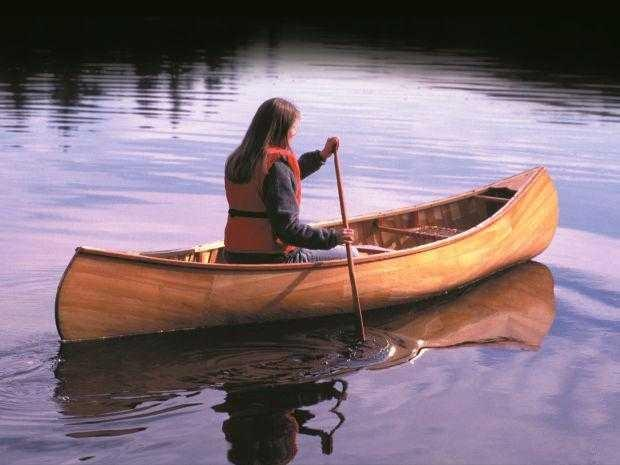kayak: (55, 163, 559, 347)
